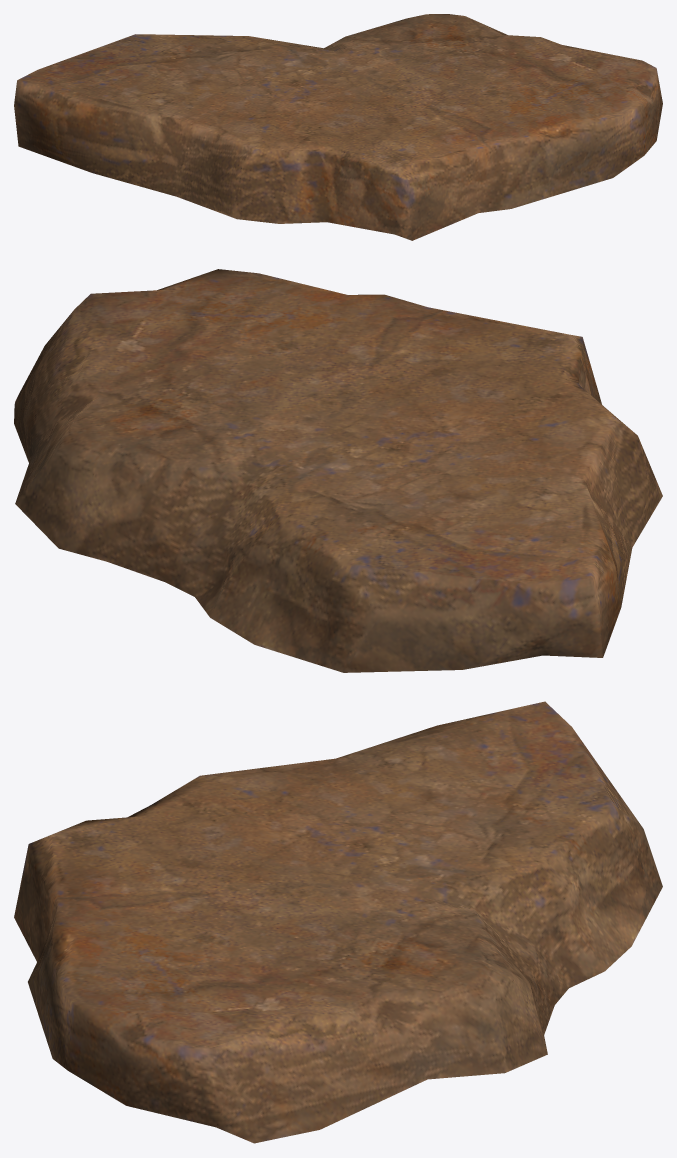
The model's file is Rock_Shales_02.fbx.
3 views of the same model, one above another, from view 1: azimuth 30°, elevation 25°; view 2: azimuth 150°, elevation 25°; view 3: azimuth 270°, elevation 25° (orthographic). The views are drawn at different scales.
Visible parts, largest first — view 1: polySurface233; view 2: polySurface233; view 3: polySurface233.
Part boxes in pixels (x1,y1,x2,y2): polySurface233: [14, 14, 662, 240]; polySurface233: [14, 269, 662, 672]; polySurface233: [14, 701, 662, 1143].
Bounding box in the file's own units: 112 × 15.6 × 87.81.
